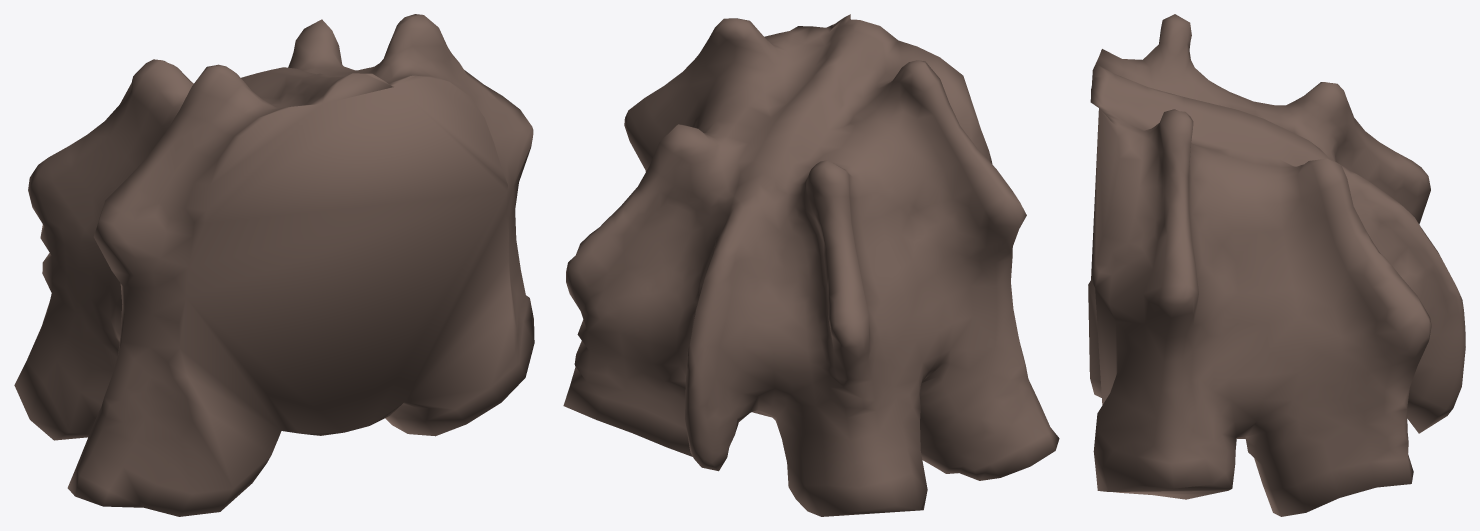
The model's file is body.fbx.
The picture shows the model from 3 angles, left to right: view 1: azimuth 30°, elevation 25°; view 2: azimuth 150°, elevation 25°; view 3: azimuth 270°, elevation 25°; orthographic projection. The views are drawn at different scales.
Visible parts, largest first — view 1: body; view 2: body; view 3: body.
Part boxes in pixels (x1,y1,x2,y2): body: [14, 14, 534, 516]; body: [563, 14, 1059, 516]; body: [1088, 14, 1465, 516].
Bounding box in the file's own units: 3.32 × 2.85 × 2.41.
